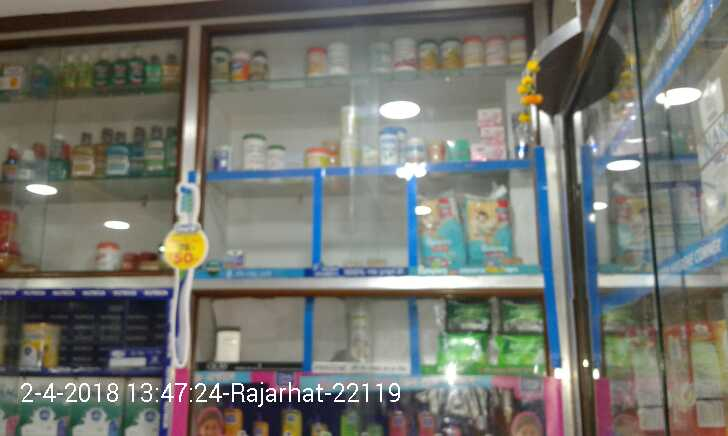vicks: (223, 248, 244, 267)
